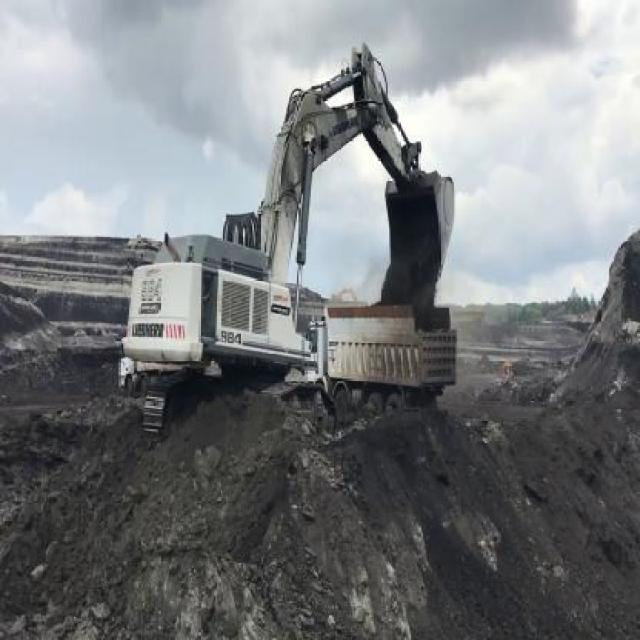dump_truck: (304, 304, 456, 428)
excavator: (114, 37, 458, 446)
